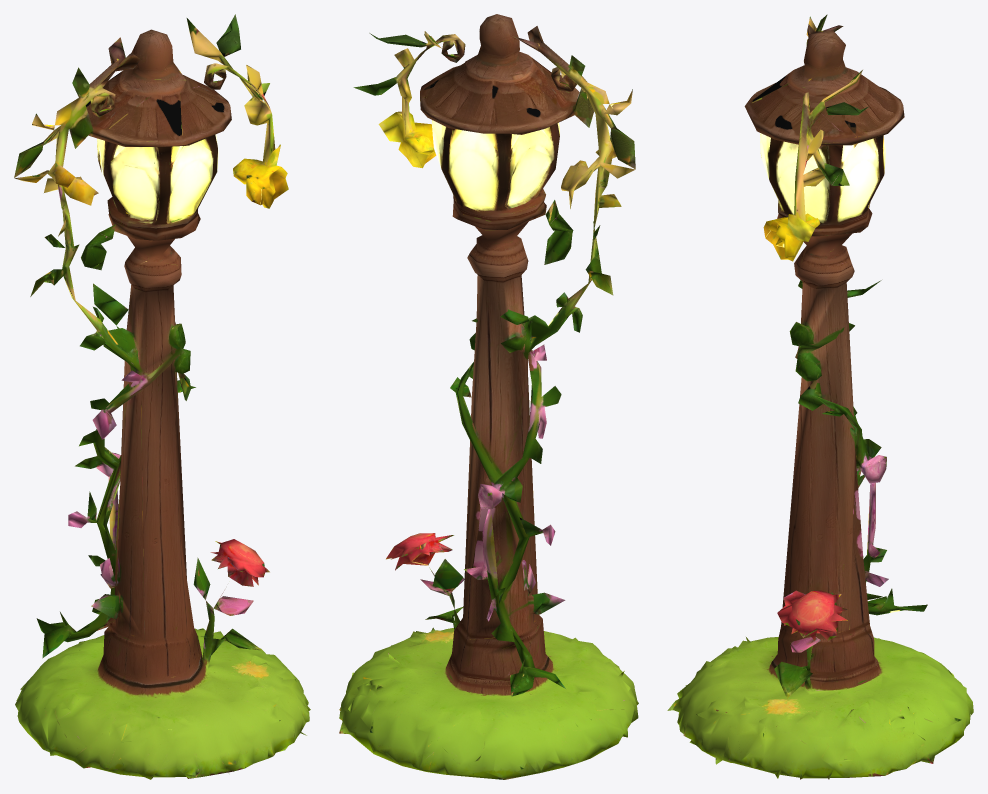
File: Lamp_ext.glb
3 renders of one model, left to right at view 1: azimuth 30°, elevation 25°; view 2: azimuth 150°, elevation 25°; view 3: azimuth 270°, elevation 25°, orthographic. The views are drawn at different scales.
Parts seen in each view (by area): view 1: Mesh1.0; view 2: Mesh1.0; view 3: Mesh1.0.
Part boxes in pixels (box(x1,y1,x2,y2)): Mesh1.0: box(14, 14, 310, 779); Mesh1.0: box(339, 14, 638, 779); Mesh1.0: box(667, 14, 973, 779).
Bounding box in the file's own units: 0.8099 × 1.9 × 0.7736.
Materials: 1 (1 with a texture image).
